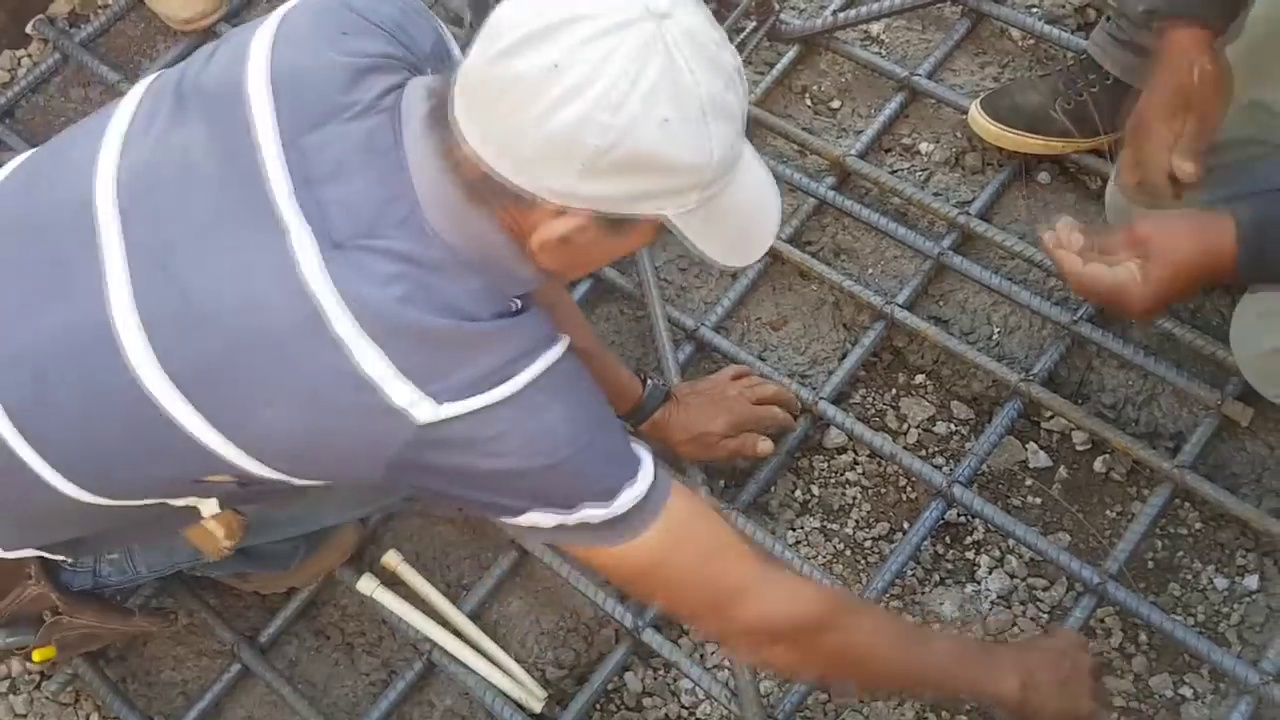helmet-off: (422, 8, 785, 283)
person: (0, 11, 1117, 713), (964, 0, 1280, 443)
